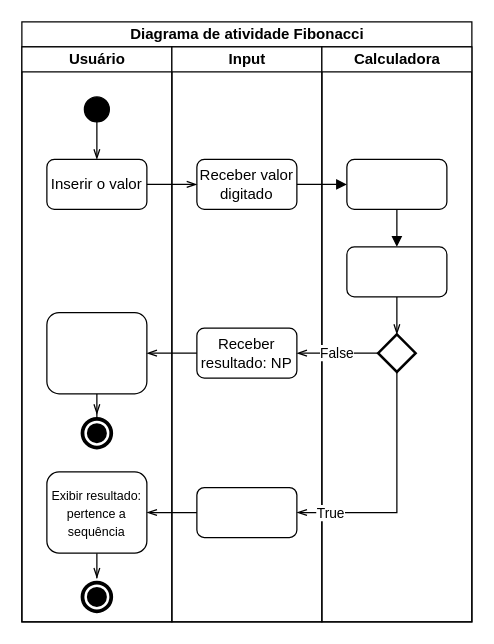
Image size: 494x644. Some labels were removed from this diagram. The centre of each missing label's shape, as x and y in pixels:
"Calcular valor com a fórmula" belongs at (396,271).
"Exibir resultado: não pertence a sequência" belongs at (96,352).
"Receber resultado: P" belongs at (246,512).
"Verificar valor inserido" belongs at (396,183).
